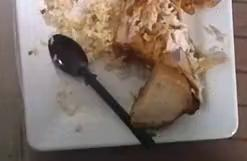chicken: (111, 0, 217, 79)
pork: (130, 62, 200, 129)
rice: (53, 1, 125, 62)
